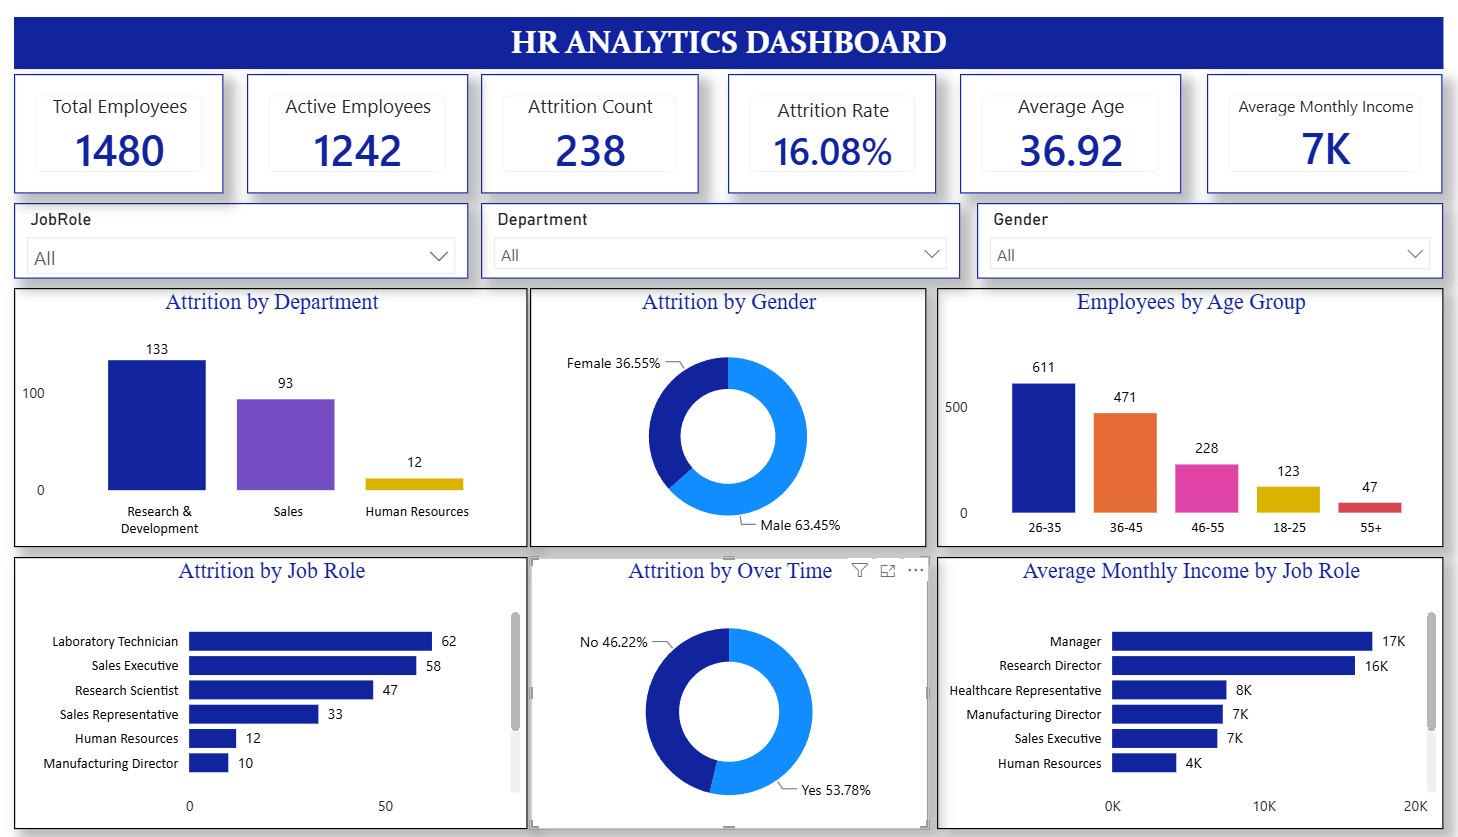

This screenshot's page, from the dashboard's own definition file:
{"tool":"powerbi","page":{"name":"Page 1","canvas":[1280,720],"ordinal":0},"visuals":[{"type":"textbox","box":[36,22.4,1208,43.8],"z":0},{"type":"cardVisual","fields":{"Data":["HR_Analytics.Average Age"]},"box":[835.5,70,186.7,101.2],"z":1000},{"type":"cardVisual","fields":{"Data":["HR_Analytics.Average Monthly Income"]},"box":[1044.6,70,199.4,101.2],"z":2000},{"type":"cardVisual","fields":{"Data":["HR_Analytics.Attrition Count"]},"box":[430.9,70,183.8,101.2],"z":3000},{"type":"cardVisual","fields":{"Data":["HR_Analytics.Attrition Rate"]},"box":[640,70,176,101.2],"z":4000},{"type":"cardVisual","fields":{"Data":["HR_Analytics.Active Employees"]},"box":[233.4,70,186.7,101.2],"z":5000},{"type":"clusteredColumnChart","title":"Attrition by Department","fields":{"Category":["HR_Analytics.Department"],"Y":["HR_Analytics.Attrition Count"]},"box":[36,250.9,433.8,218.8],"z":6000},{"type":"clusteredColumnChart","title":"Employees by Age Group","fields":{"Category":["HR_Analytics.AgeGroup"],"Y":["HR_Analytics.Total Employees"]},"box":[816,250.9,428,218.8],"z":7000},{"type":"donutChart","title":"Attrition by Gender","fields":{"Category":["HR_Analytics.Gender"],"Y":["HR_Analytics.Attrition Count"]},"box":[472.7,250.9,334.6,218.8],"z":8000},{"type":"clusteredBarChart","title":"Attrition by Job Role","fields":{"Y":["HR_Analytics.Attrition Count"],"Category":["HR_Analytics.JobRole"]},"box":[36,478.5,433.8,229.5],"z":9000},{"type":"clusteredBarChart","title":"Average Monthly Income by Job Role","fields":{"Y":["HR_Analytics.Average Monthly Income"],"Category":["HR_Analytics.JobRole"]},"box":[816,478.5,428,229.5],"z":10000},{"type":"donutChart","title":"Attrition by Over Time","fields":{"Y":["HR_Analytics.Attrition Count"],"Category":["HR_Analytics.OverTime"]},"box":[472.7,478.5,336.5,229.5],"z":11000},{"type":"slicer","fields":{"Values":["HR_Analytics.Department"]},"box":[430.9,179,404.6,64.2],"z":12000},{"type":"slicer","fields":{"Values":["HR_Analytics.JobRole"]},"box":[36,179,384.2,64.2],"z":13000},{"type":"slicer","fields":{"Values":["HR_Analytics.Gender"]},"box":[850.1,179,393.9,64.2],"z":14000},{"type":"cardVisual","fields":{"Data":["HR_Analytics.Total Employees"]},"box":[36,70,177,101.2],"z":15000}]}

Visuals, with their boxes in screenshot pixels (x1, y1, x2, y2), scaled from the page's 1280x720 canvas onto the 1458x837 screenshot:
textbox: [left=41, top=26, right=1417, bottom=77]
cardVisual - HR_Analytics.Average Age: [left=952, top=81, right=1164, bottom=199]
cardVisual - HR_Analytics.Average Monthly Income: [left=1190, top=81, right=1417, bottom=199]
cardVisual - HR_Analytics.Attrition Count: [left=491, top=81, right=700, bottom=199]
cardVisual - HR_Analytics.Attrition Rate: [left=729, top=81, right=929, bottom=199]
cardVisual - HR_Analytics.Active Employees: [left=266, top=81, right=479, bottom=199]
"Attrition by Department" clusteredColumnChart: [left=41, top=292, right=535, bottom=546]
"Employees by Age Group" clusteredColumnChart: [left=929, top=292, right=1417, bottom=546]
"Attrition by Gender" donutChart: [left=538, top=292, right=920, bottom=546]
"Attrition by Job Role" clusteredBarChart: [left=41, top=556, right=535, bottom=823]
"Average Monthly Income by Job Role" clusteredBarChart: [left=929, top=556, right=1417, bottom=823]
"Attrition by Over Time" donutChart: [left=538, top=556, right=922, bottom=823]
slicer - HR_Analytics.Department: [left=491, top=208, right=952, bottom=283]
slicer - HR_Analytics.JobRole: [left=41, top=208, right=479, bottom=283]
slicer - HR_Analytics.Gender: [left=968, top=208, right=1417, bottom=283]
cardVisual - HR_Analytics.Total Employees: [left=41, top=81, right=243, bottom=199]
